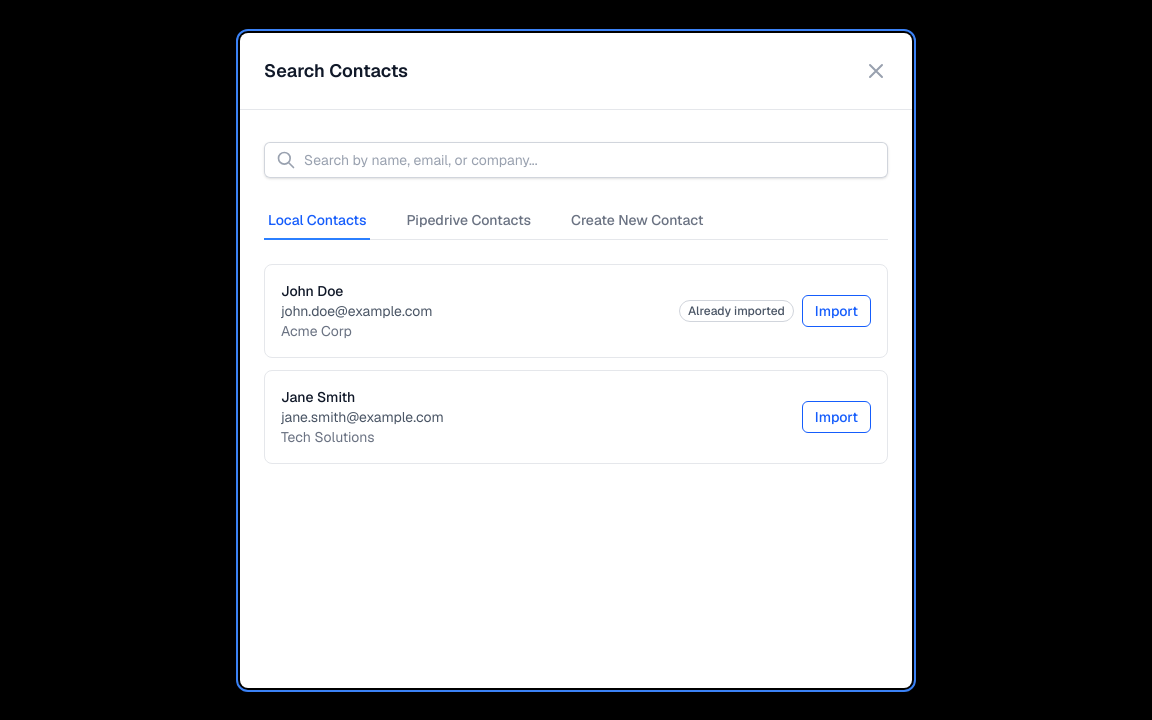
Test: ContactSearch › Contact Import › imports Pipedrive contact when import button is clicked
The image size is (1152, 720).
# Switch to Pipedrive tab and search
Click the button "Pipedrive Contacts" at {"x": 469, "y": 220}, box [402, 202, 535, 240]
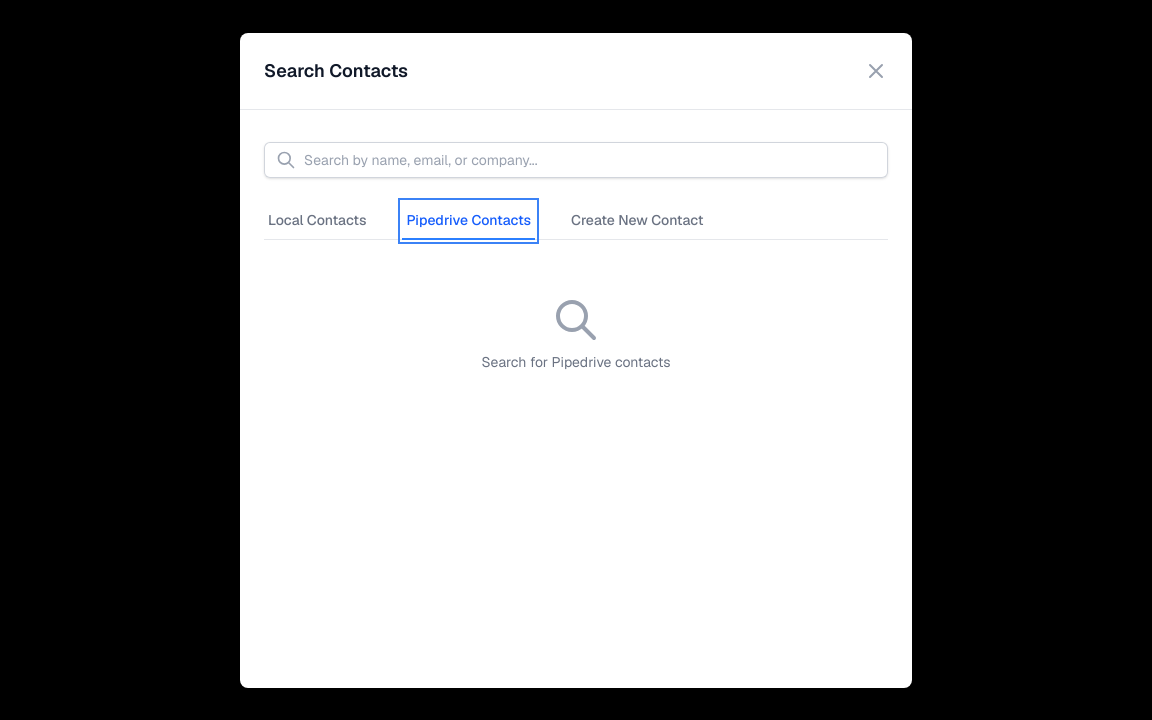
Type "Alice" into the field with placeholder "Search by name, email, or company..." at {"x": 576, "y": 160}, box [264, 142, 888, 178]
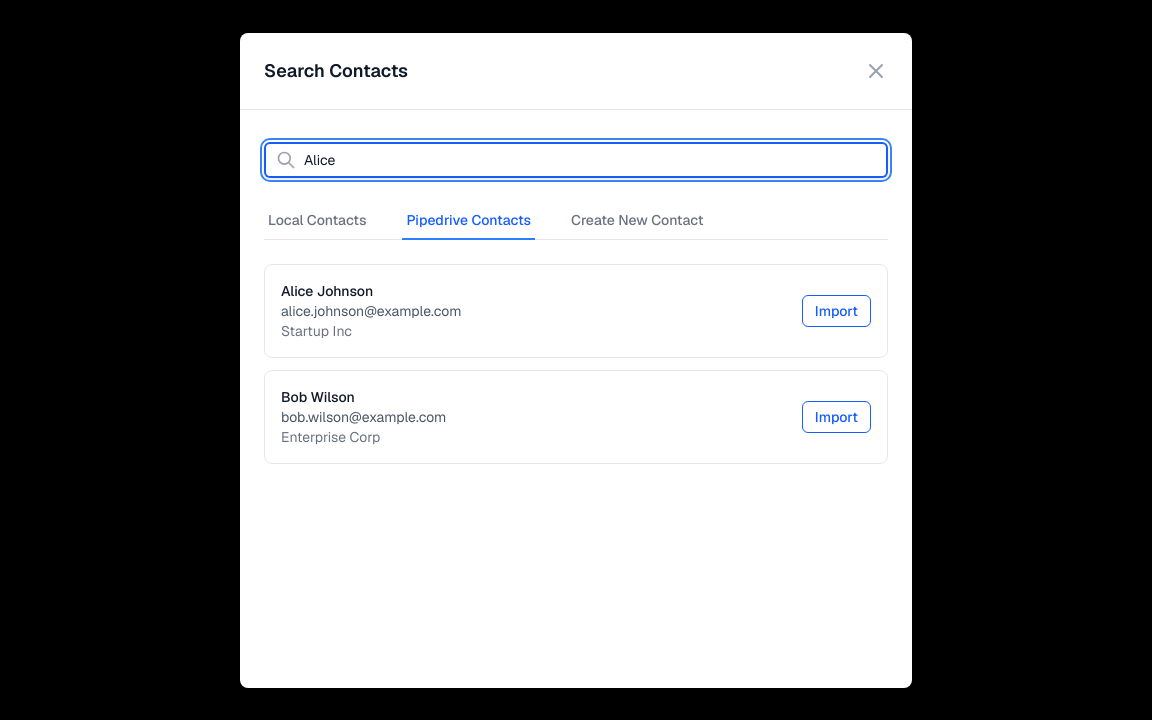
Check: the button with aria-label "Import contact" is shown, box [802, 294, 871, 326]
